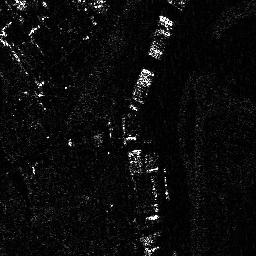ship: (148, 14, 174, 61), (128, 68, 155, 110)
